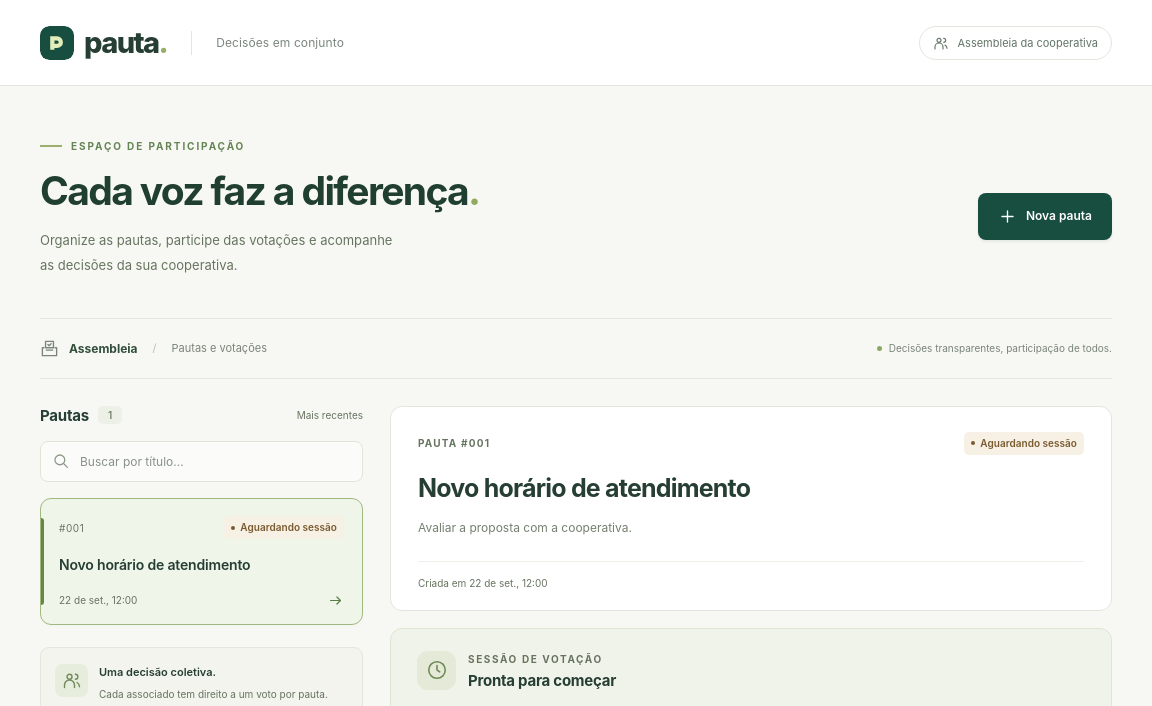
fluxos da assembleia › busca por título e cancela visualmente a seleção quando não há resultados
Expected: the heading "Novo horário de atendimento" below "PAUTA #" is shown, [418,473,750,503]
Type "inexistente" into the search field named "Buscar pautas" at (202, 461), box [40,441,363,482]
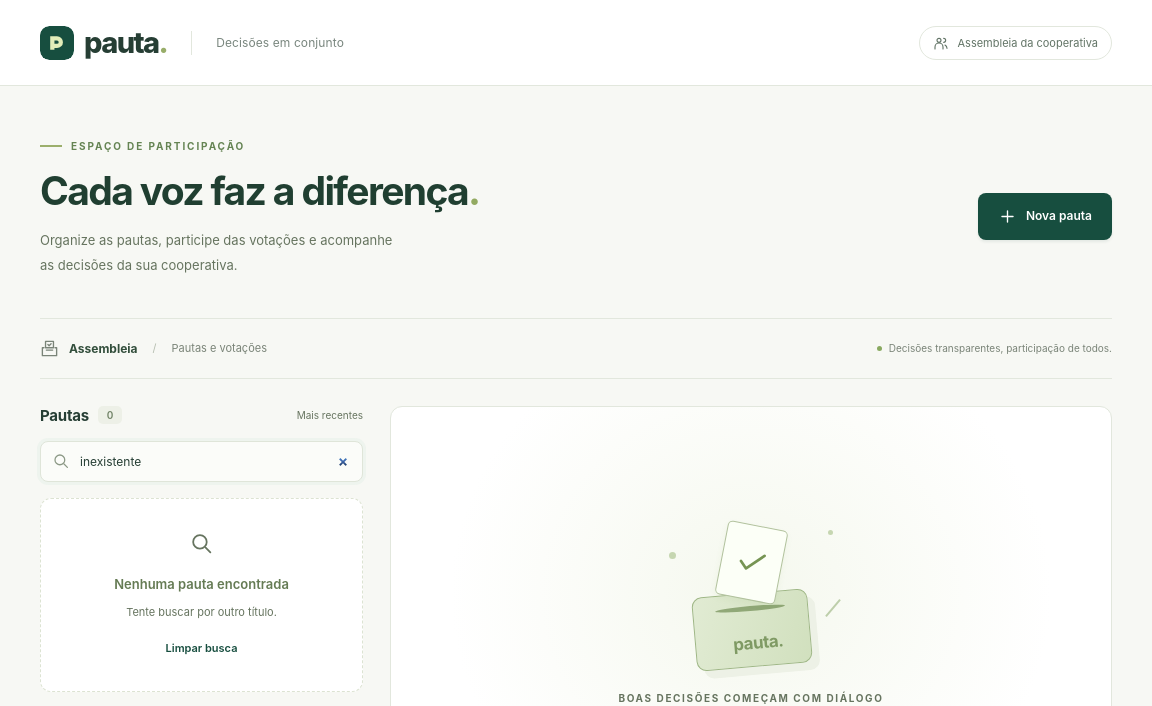
Now the heading "Nenhuma pauta encontrada" is shown, box [114,576,289,592]
Now the button "Novo horário de atendimento" is gone
Click the button "Limpar busca" at (201, 649), box [166,639,237,658]
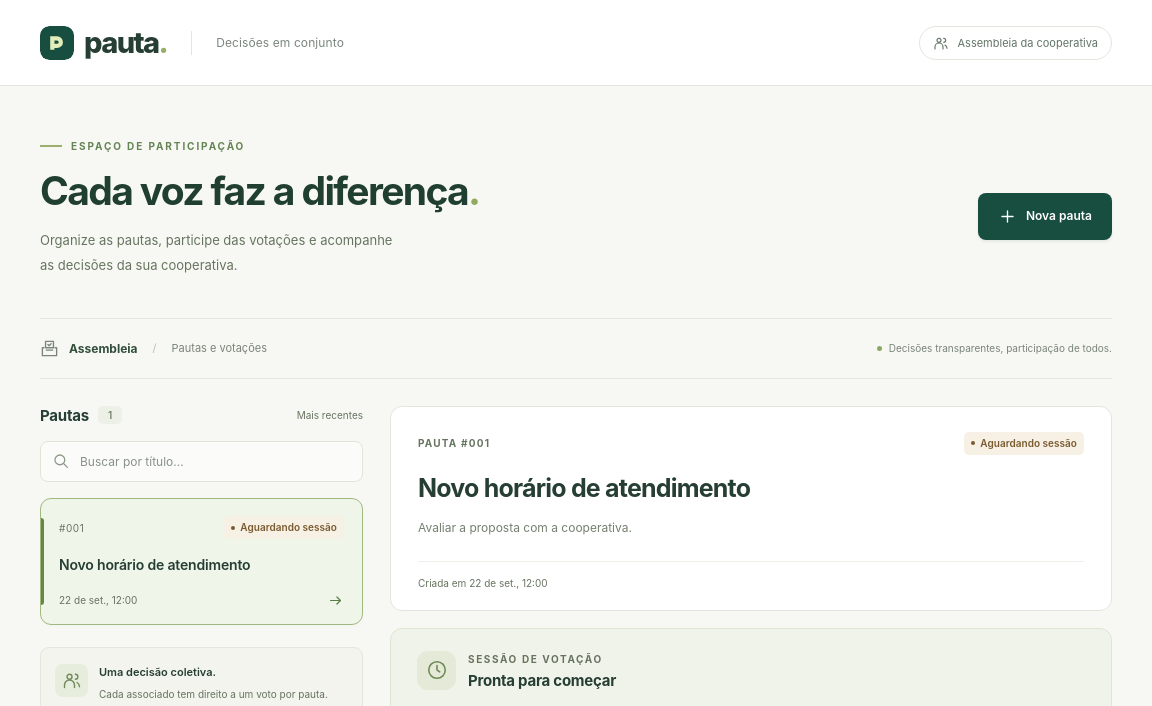
Now the heading "Novo horário de atendimento" below "PAUTA #" is shown, box [418,473,750,503]
